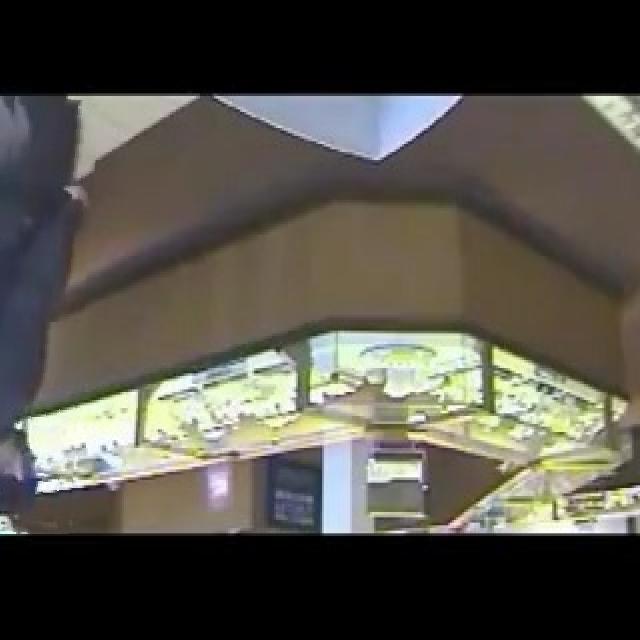normal: (0, 97, 93, 534)
